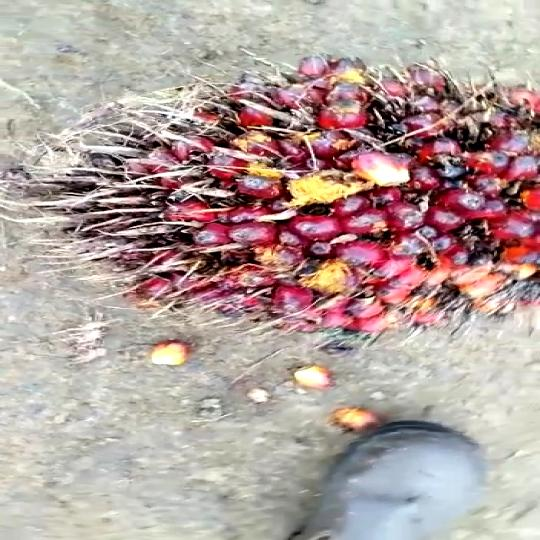masak: (4, 50, 540, 352)
